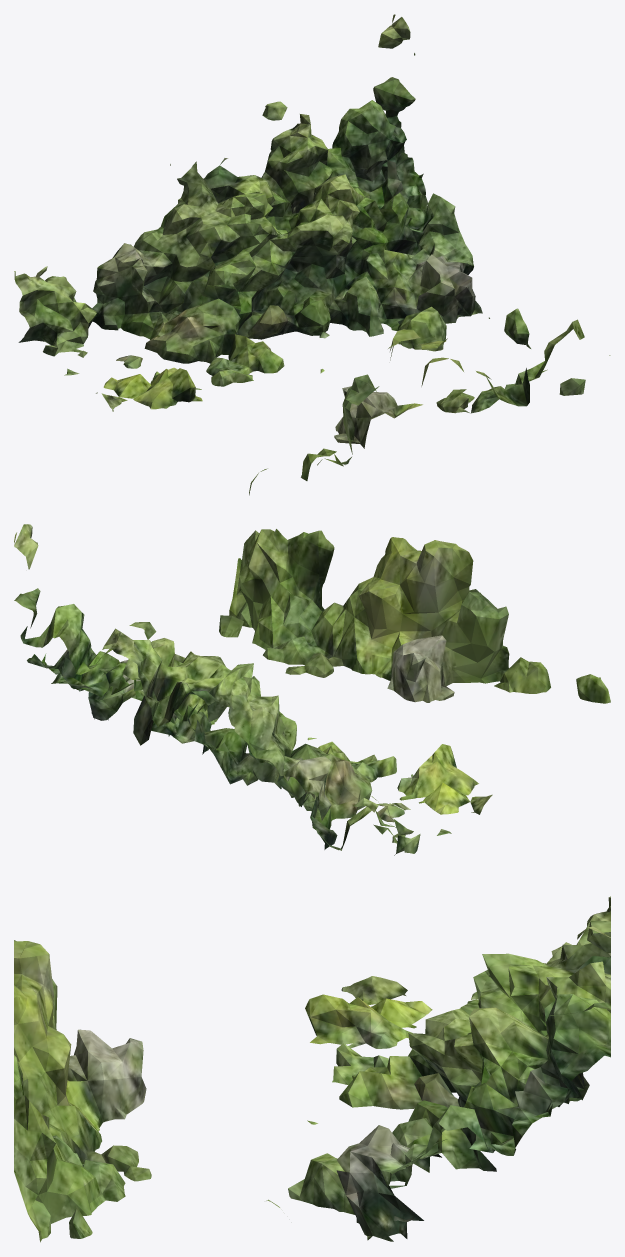
The picture shows the model from 3 angles, top to bottom: view 1: azimuth 30°, elevation 25°; view 2: azimuth 150°, elevation 25°; view 3: azimuth 270°, elevation 25°; orthographic projection. The views are drawn at different scales.
Bounding box in the file's own units: 52.22 × 31.35 × 52.22.
Materials: 3 (3 with a texture image).
